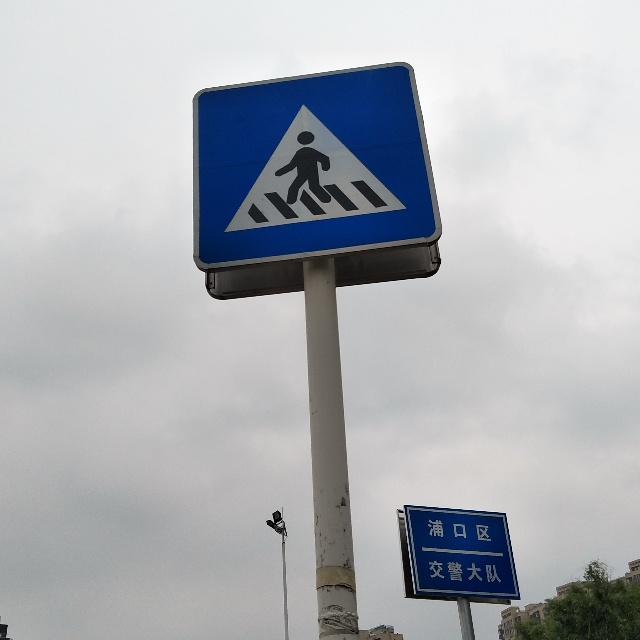crosswalk: (209, 86, 428, 247)
